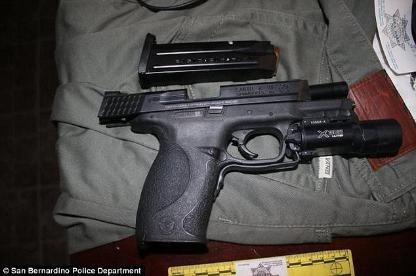pistol: (101, 80, 401, 246)
